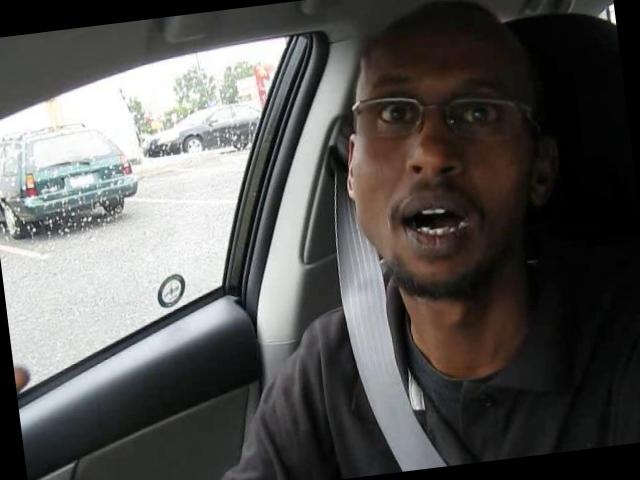eye_open: (446, 93, 509, 134), (368, 96, 422, 136)
face: (326, 44, 541, 304)
mouth_open: (384, 179, 484, 261)
